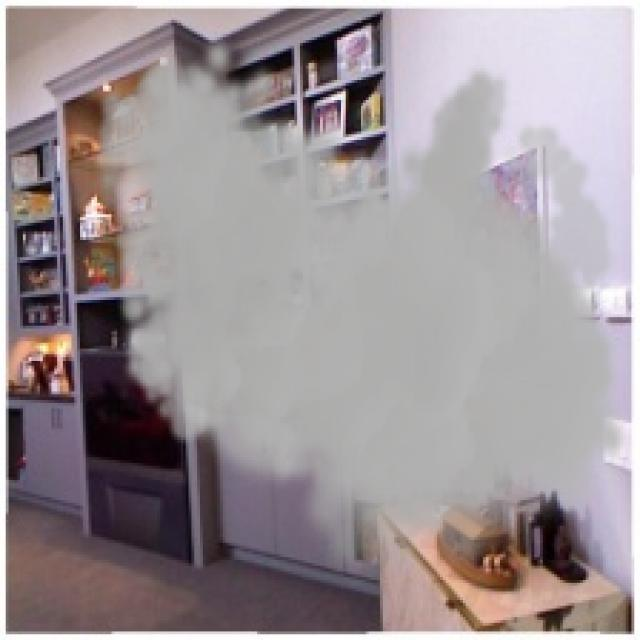smoke: (91, 31, 632, 588)
